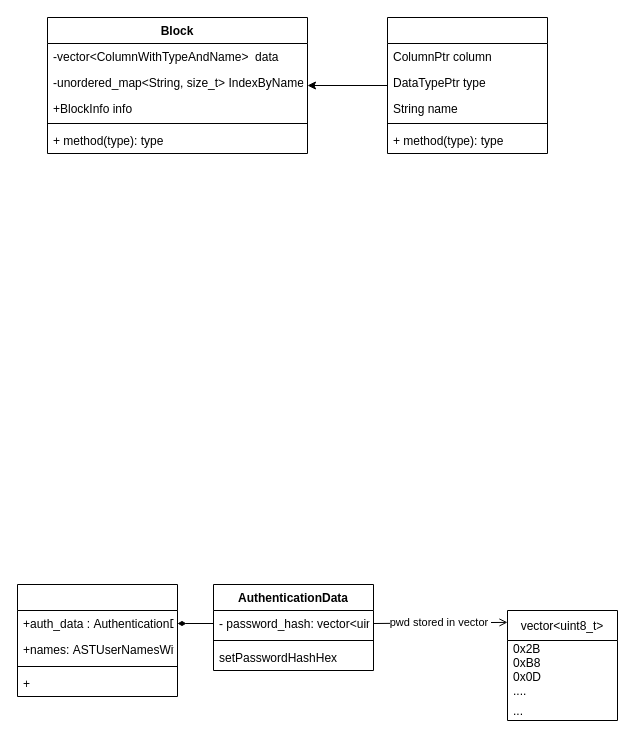
This 635x738 diagram has some shape labels left out. Each missing label, with the box of its shape:
ASTCreateUserQuery: (16, 584, 178, 696)
ColumnWithTypeAndName: (386, 16, 548, 154)
